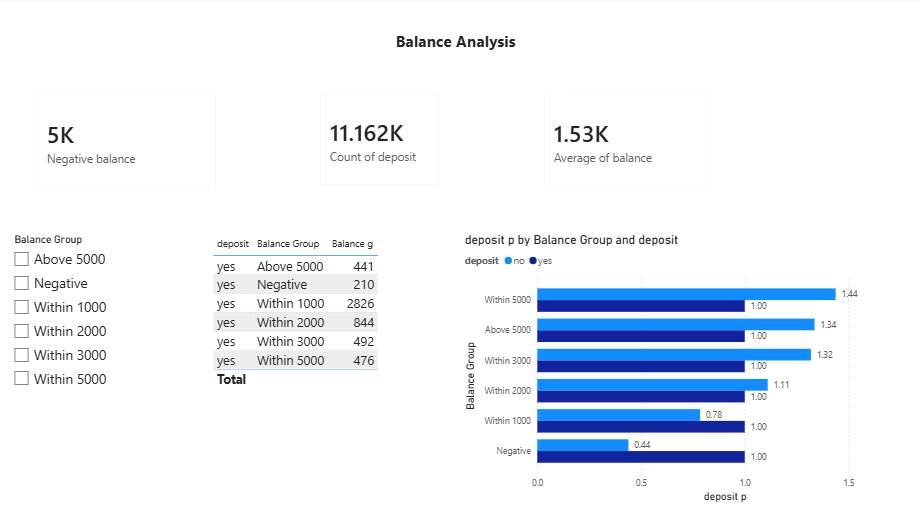

What the dashboard file says about the page in this screenshot:
{"tool":"powerbi","page":{"name":"Balance Analysis","canvas":[1280,720],"ordinal":3},"visuals":[{"type":"cardVisual","fields":{"Data":["dataset for intern.Negative balance"]},"box":[39.5,114.1,281,165.4],"z":0},{"type":"cardVisual","fields":{"Data":["Avg(dataset for intern.balance)"]},"box":[737.6,109.8,264.9,169.8],"z":1000},{"type":"slicer","fields":{"Values":["dataset for intern.Balance Group"]},"box":[11.7,319,266.3,250.2],"z":2000},{"type":"cardVisual","fields":{"Data":["CountNonNull(dataset for intern.deposit)"]},"box":[428.8,114.1,196.1,161],"z":3000},{"type":"clusteredBarChart","fields":{"Category":["dataset for intern.Balance Group"],"Series":["dataset for intern.deposit"],"Y":["dataset for intern.deposit p"]},"box":[639.5,322,635.1,377.6],"z":4000},{"type":"tableEx","fields":{"Values":["dataset for intern.deposit","dataset for intern.Balance Group","dataset for intern.Balance g"]},"box":[292.7,322,332.2,245.9],"z":5000},{"type":"textbox","box":[544.4,39.5,240,89.3],"z":5001}]}

Visuals, with their boxes in screenshot pixels (x1, y1, x2, y2), scaled from the page's 1280x720 canvas onto the 920x511 screenshot:
cardVisual - dataset for intern.Negative balance: {"x1": 28, "y1": 81, "x2": 230, "y2": 198}
cardVisual - Avg(dataset for intern.balance): {"x1": 530, "y1": 78, "x2": 721, "y2": 198}
slicer - dataset for intern.Balance Group: {"x1": 8, "y1": 226, "x2": 200, "y2": 404}
cardVisual - CountNonNull(dataset for intern.deposit): {"x1": 308, "y1": 81, "x2": 449, "y2": 195}
clusteredBarChart - dataset for intern.Balance Group x dataset for intern.deposit: {"x1": 460, "y1": 229, "x2": 916, "y2": 497}
tableEx - dataset for intern.deposit x dataset for intern.Balance Group: {"x1": 210, "y1": 229, "x2": 449, "y2": 403}
textbox: {"x1": 391, "y1": 28, "x2": 564, "y2": 91}
